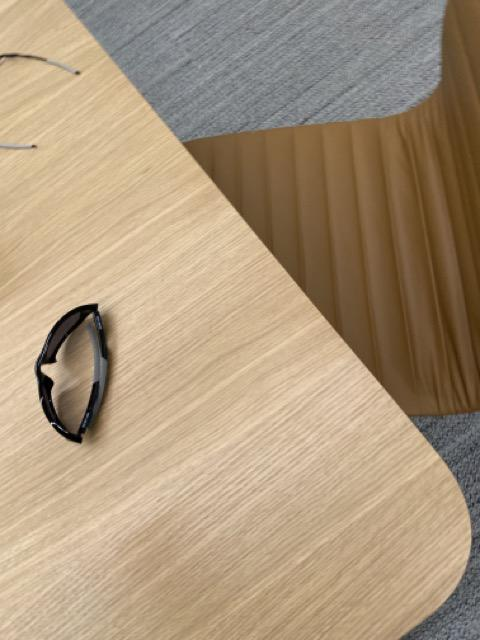Sunglasses: (34, 302, 111, 447)
